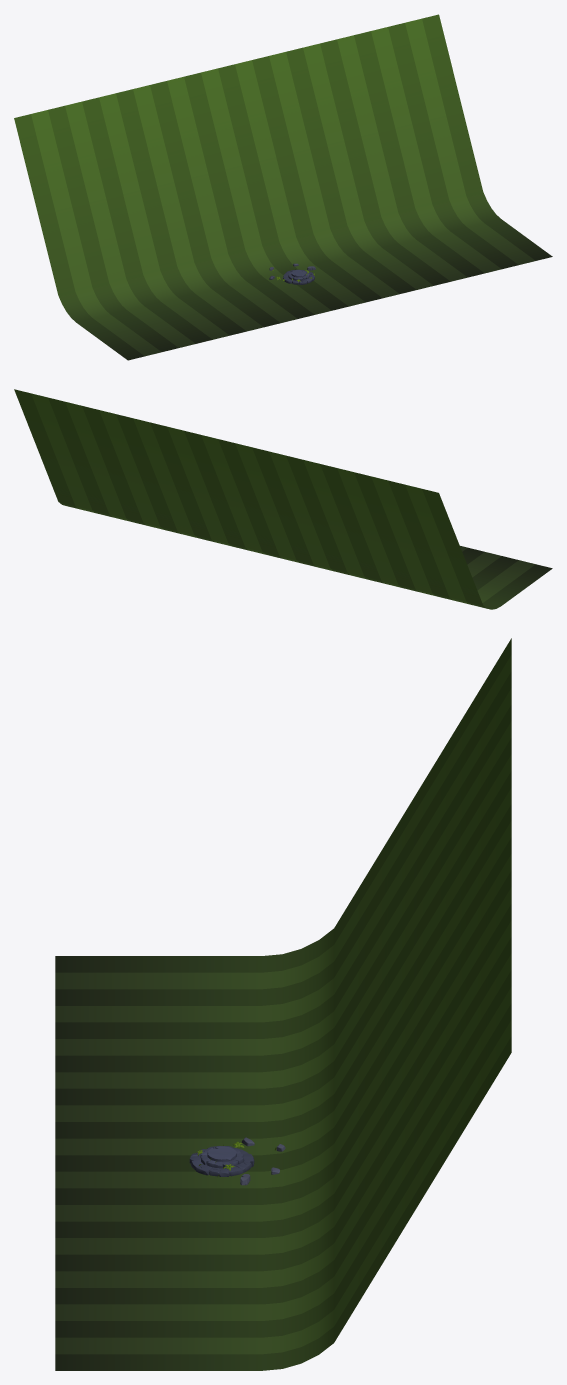
The picture shows the model from 3 angles, top to bottom: view 1: azimuth 30°, elevation 25°; view 2: azimuth 150°, elevation 25°; view 3: azimuth 270°, elevation 25°; orthographic projection. The views are drawn at different scales.
Parts seen in each view (by area): view 1: Platform01; view 2: Platform01; view 3: Platform01.
Part boxes in pixels (left/top/right/bottom): Platform01: left=14, top=14, right=552, bottom=360; Platform01: left=14, top=389, right=552, bottom=609; Platform01: left=55, top=638, right=511, bottom=1370.
Bounding box in the file's own units: 57.98 × 21.54 × 26.94.
Materials: 1 (1 with a texture image).
